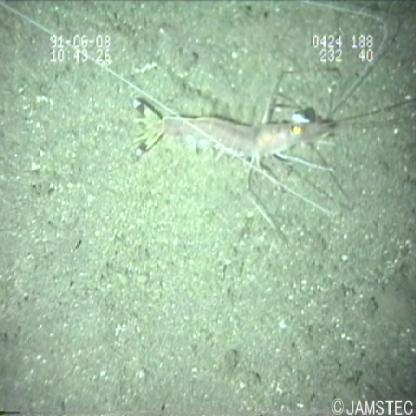Bio: (127, 52, 385, 236)
